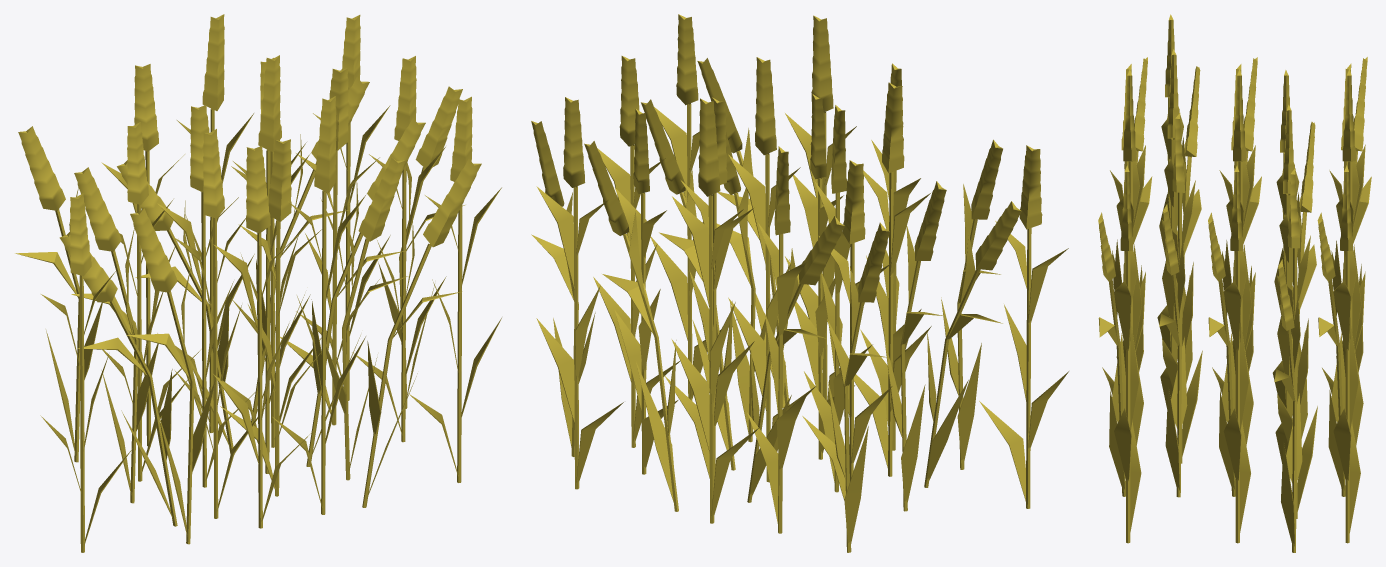
File: Wheat.fbx
3 views of the same model, side by side, from view 1: azimuth 30°, elevation 25°; view 2: azimuth 150°, elevation 25°; view 3: azimuth 270°, elevation 25° (orthographic). The views are drawn at different scales.
Visible parts, largest first — view 1: Wheat; view 2: Wheat; view 3: Wheat.
Part boxes in pixels (box(x1,y1,x2,y2)): Wheat: box(15, 14, 501, 552); Wheat: box(531, 14, 1068, 552); Wheat: box(1098, 14, 1371, 552).
Size of the model in its own units: 1.91 by 1.58 by 0.9616.
